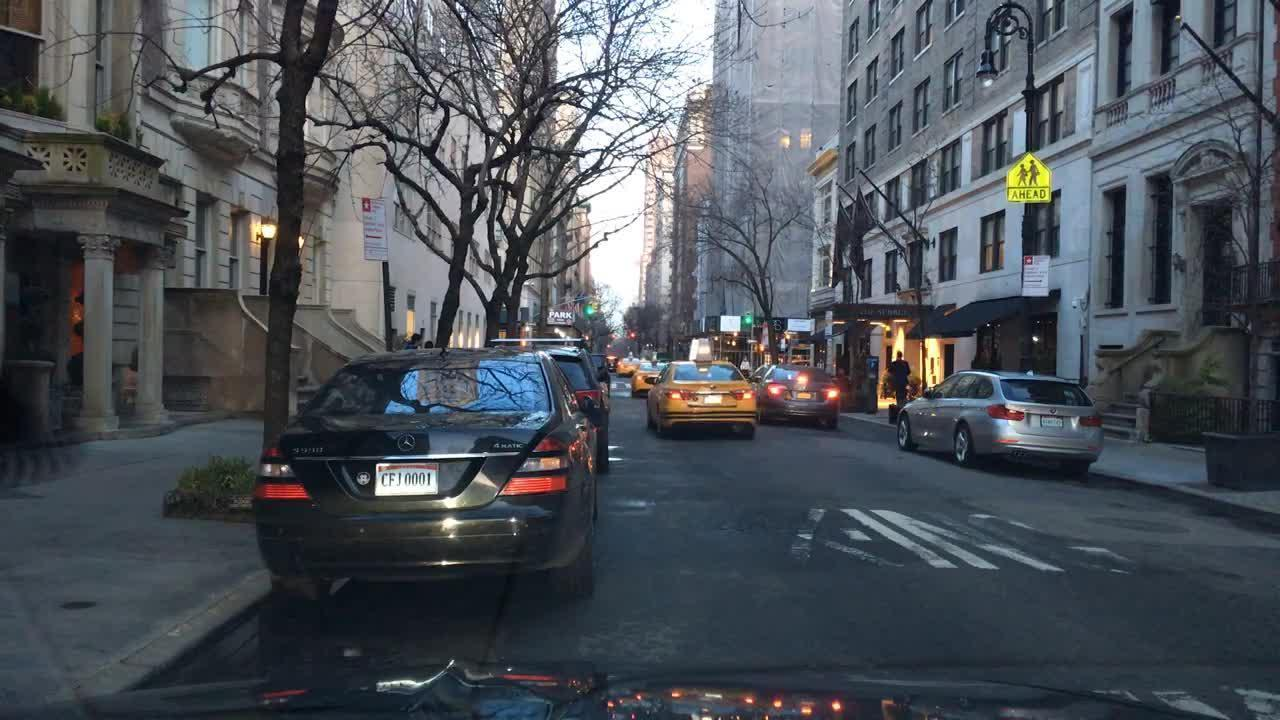Mercedes: (393, 430, 418, 454)
